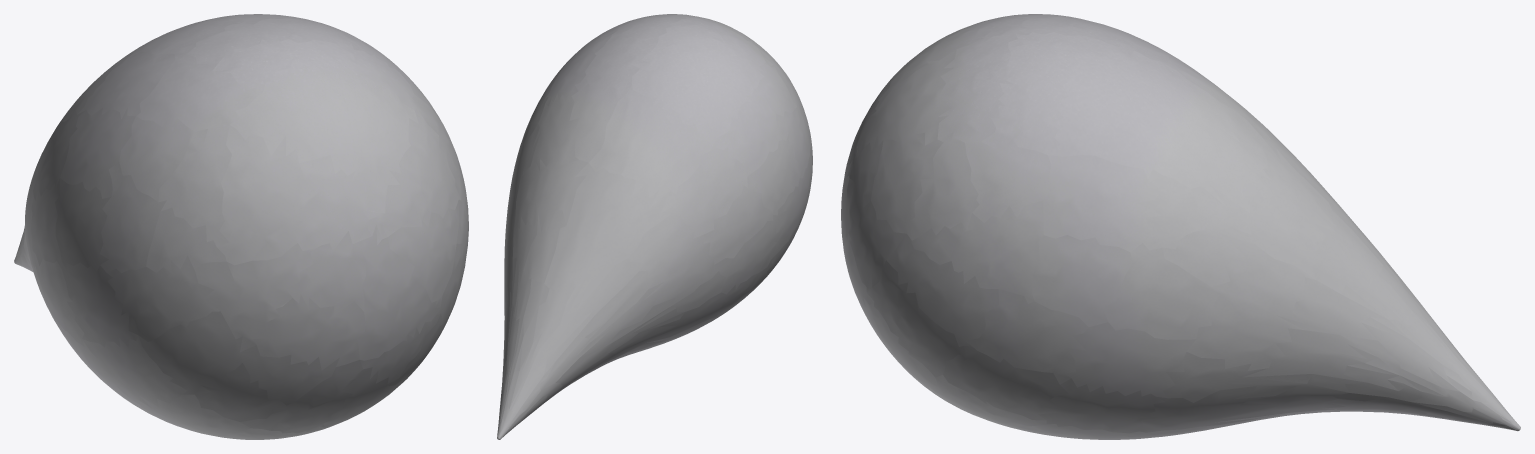
Rendered from droplet.glb.
3 views of the same model, side by side, from view 1: azimuth 30°, elevation 25°; view 2: azimuth 150°, elevation 25°; view 3: azimuth 270°, elevation 25° (orthographic). The views are drawn at different scales.
Visible parts, largest first — view 1: Mesh_0; view 2: Mesh_0; view 3: Mesh_0.
Part boxes in pixels (x1,y1,x2,y2): Mesh_0: (14, 14, 468, 439); Mesh_0: (497, 14, 812, 439); Mesh_0: (841, 14, 1520, 439).
Bounding box in the file's own units: 1.11 × 1.23 × 1.9.
Materials: 1 (1 with a texture image).
